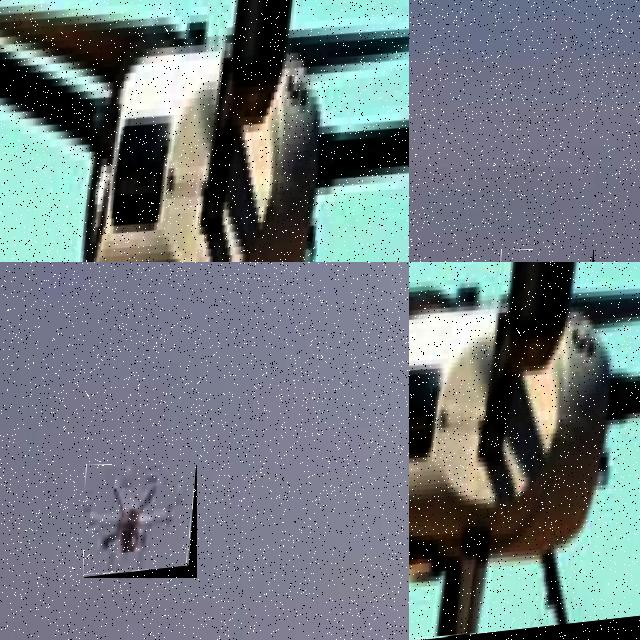0: (84, 465, 197, 578)
drone: (0, 0, 409, 262), (409, 262, 640, 640)
